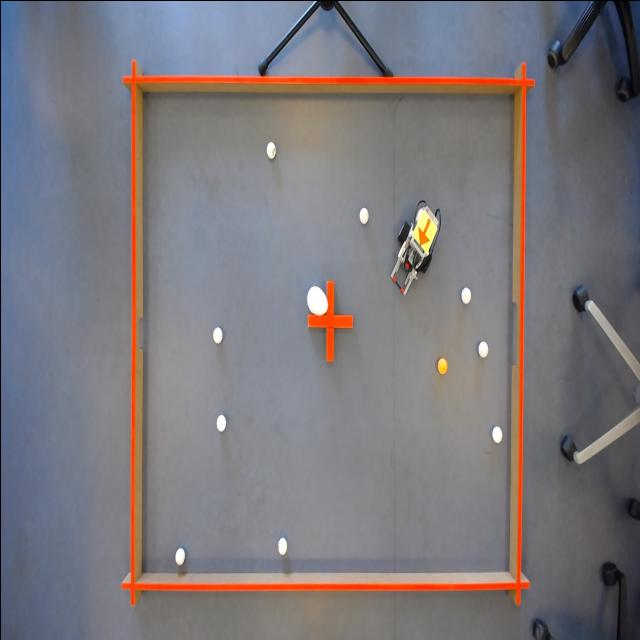cross: (305, 278, 355, 363)
egg: (304, 282, 328, 316)
orange_ball: (436, 355, 448, 379)
robot: (410, 207, 438, 254)
white_ball: (263, 138, 277, 162), (458, 283, 472, 307), (274, 534, 288, 558), (211, 320, 223, 346), (357, 202, 369, 228), (214, 410, 227, 433), (174, 544, 186, 568), (491, 421, 502, 446), (476, 338, 488, 360)
